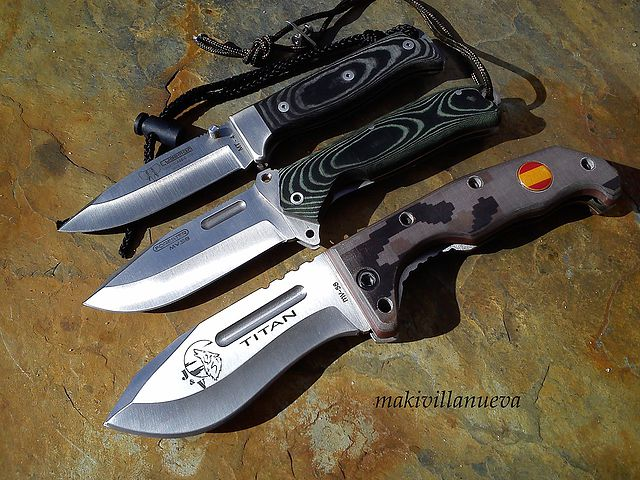knife: (98, 281, 356, 441), (75, 204, 295, 318), (51, 131, 252, 235)
